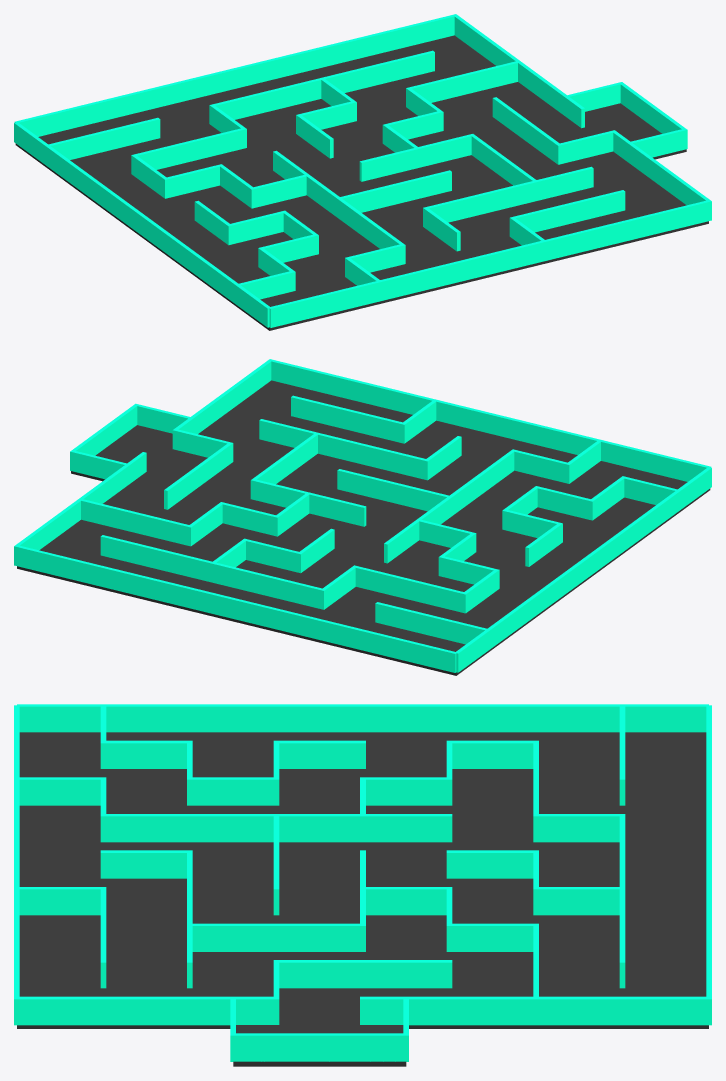
Rendered from laberinto.fbx.
3 views of the same model, one above another, from view 1: azimuth 30°, elevation 25°; view 2: azimuth 150°, elevation 25°; view 3: azimuth 270°, elevation 25° (orthographic). The views are drawn at different scales.
Parts seen in each view (by area): view 1: pCube50; view 2: pCube50; view 3: pCube50.
Part boxes in pixels (box(x1,y1,x2,y2)): pCube50: box(14, 14, 711, 330); pCube50: box(14, 359, 711, 675); pCube50: box(14, 704, 711, 1066).
Size of the model in its own units: 27.2 by 1.19 by 24.2.
